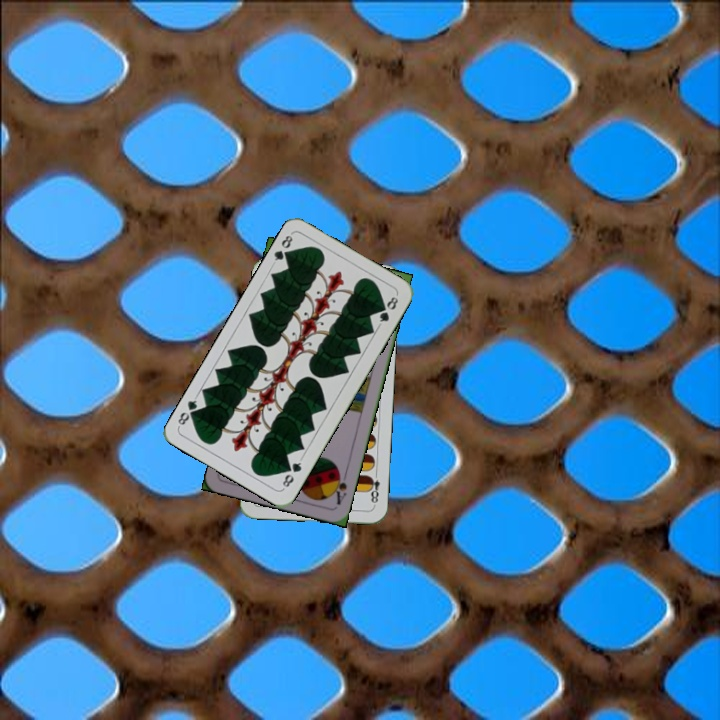E8: (365, 468, 382, 508)
G8: (269, 229, 295, 267), (278, 454, 304, 491)
SA: (328, 466, 350, 507)
